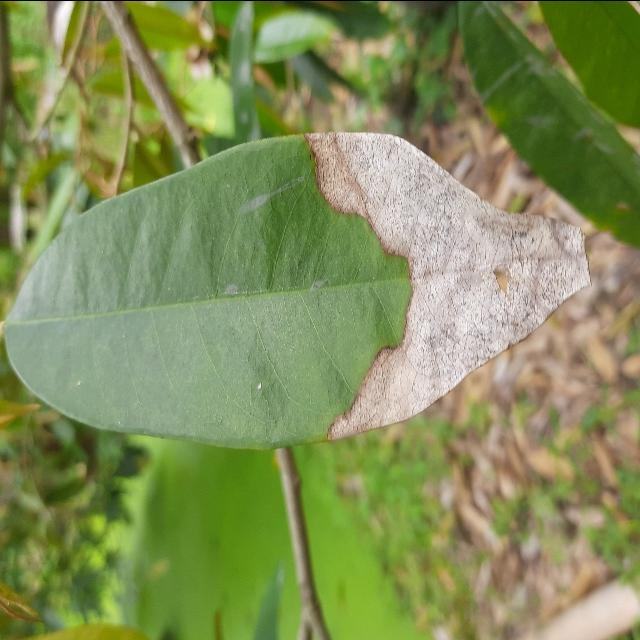Leaf Blight: (0, 122, 600, 453)
